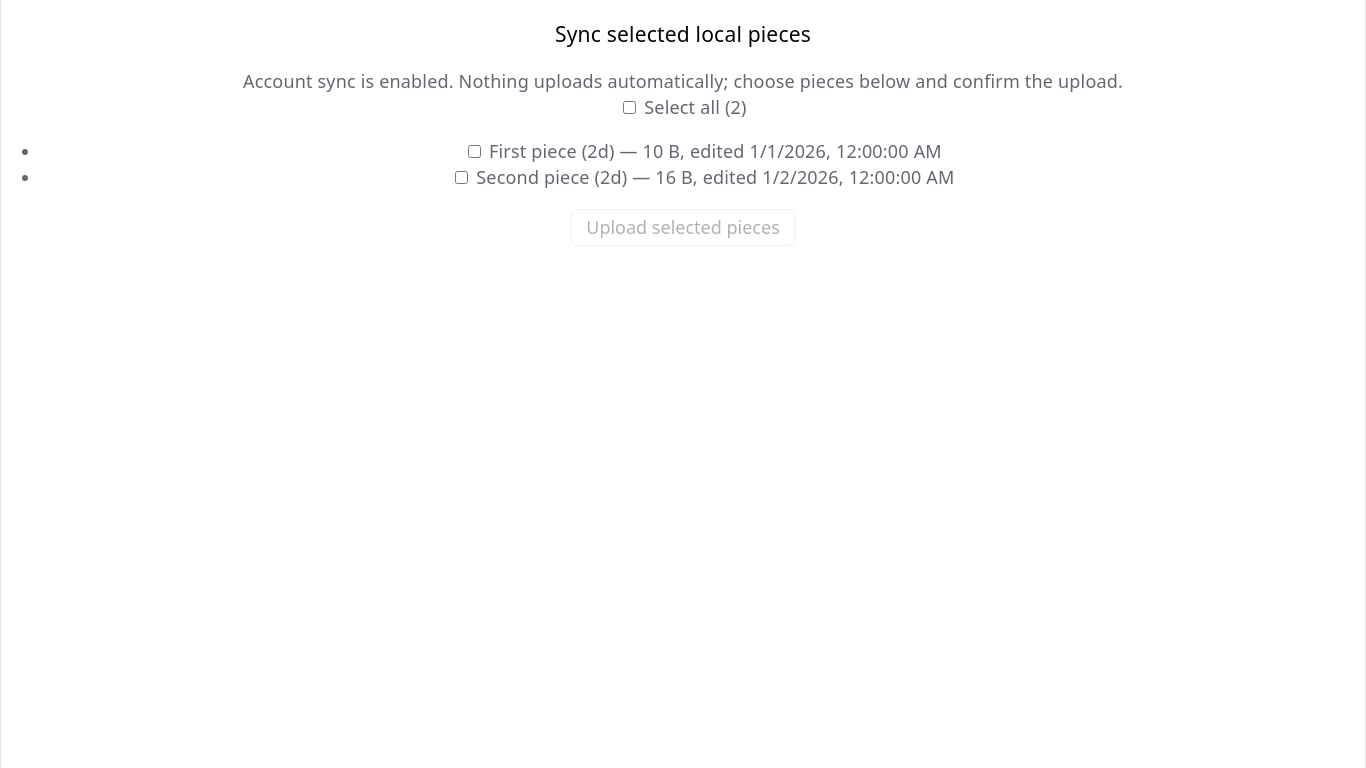
Test: LocalPieceSyncOffer quota accounting (#1099) › blocks an over-quota row before upload
The image size is (1366, 768).
Expected: the text "First piece (2d) — 10 B, edited 1/1/2026, 12:00:00 AM" is shown, [464,139,942,163]
Click the checkbox labelled "First piece (2d) — 10 B, edited 1/1/2026, 12:00:00 AM".
click(475, 152)  # box [468,145,481,158]
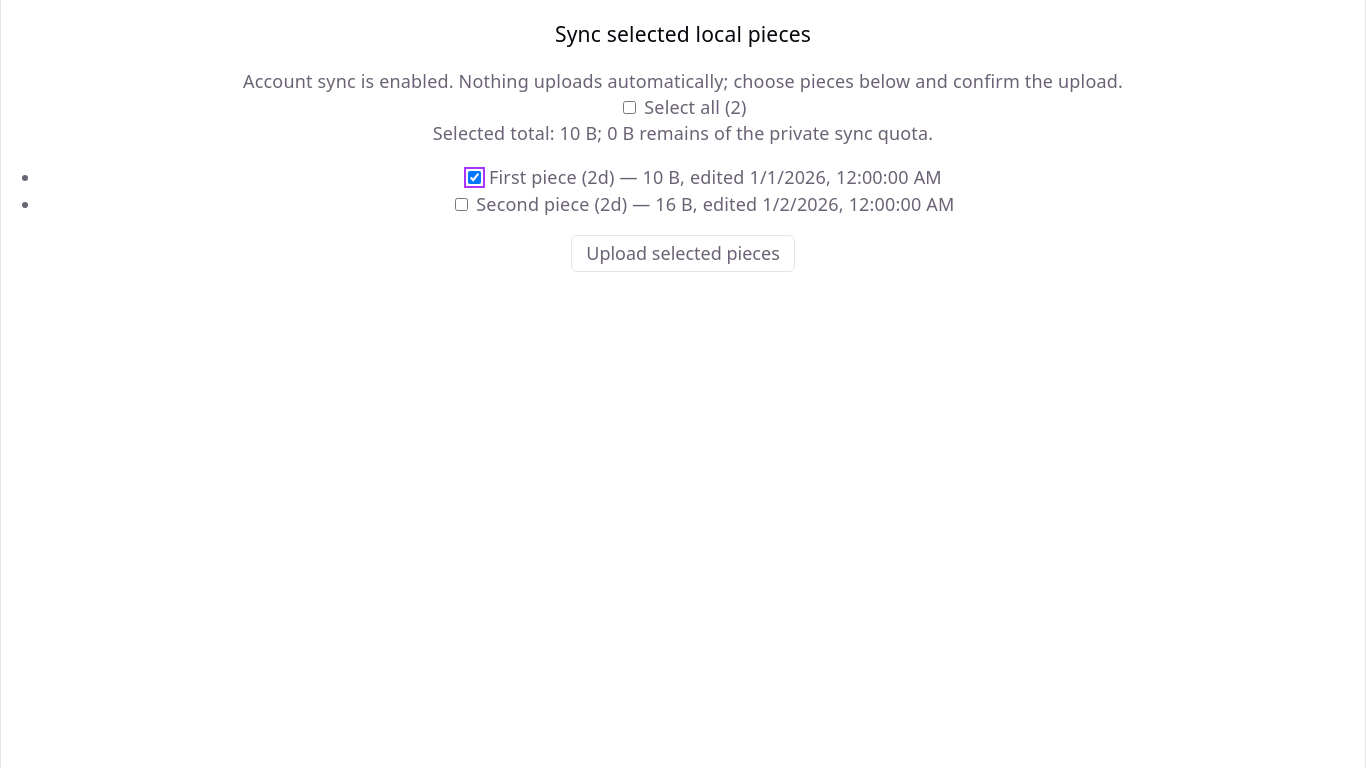
Click the button "Upload selected pieces".
click(683, 253)  # box [571,235,795,272]
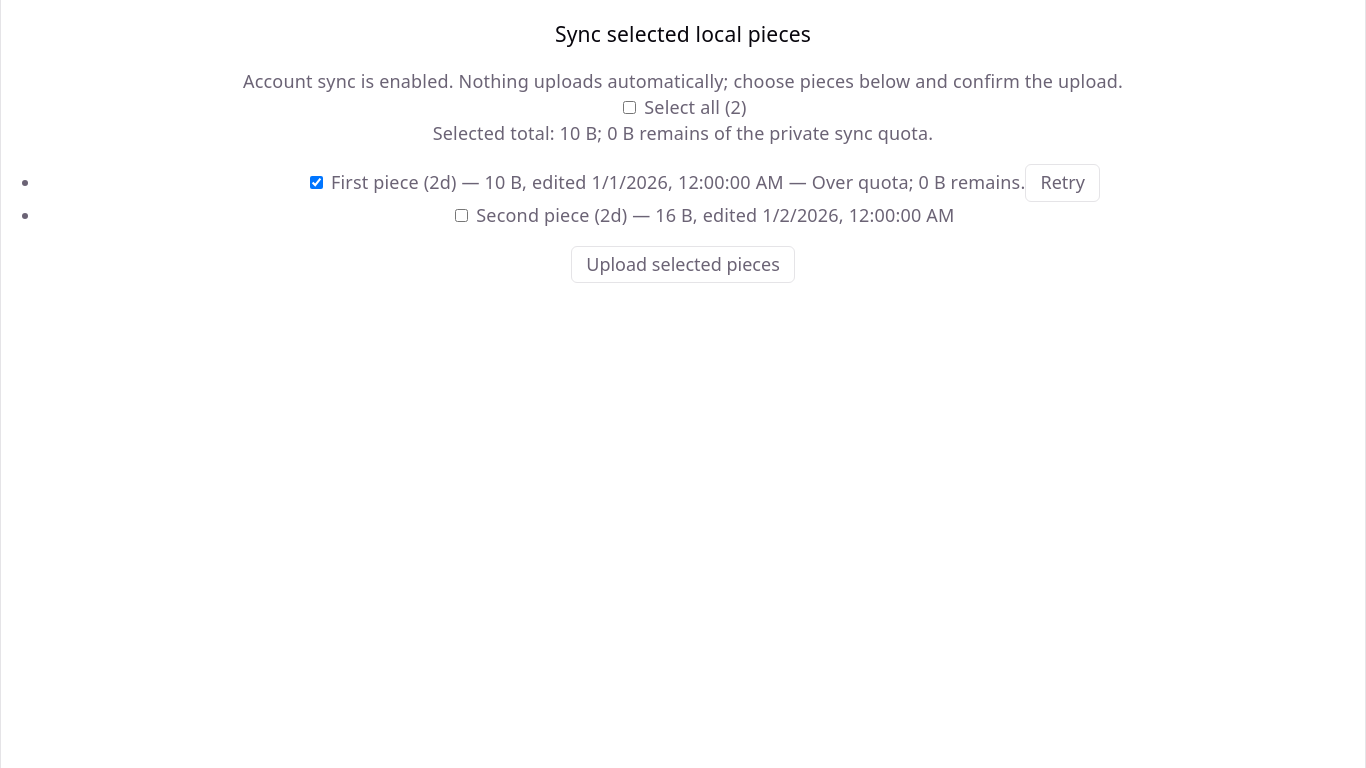
Result: the text "— Over quota; 0 B remains." is shown at [784,170,1025,194]
